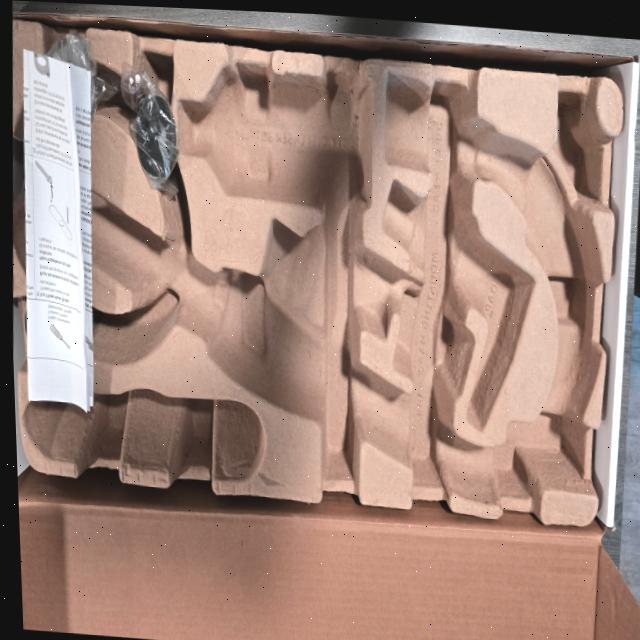1m: (11, 72, 598, 496)
2m: (381, 177, 534, 429)
3m: (178, 68, 369, 206)
4m: (23, 388, 265, 480)
5m: (28, 298, 83, 362)
6o: (23, 33, 115, 136)
7: (119, 53, 178, 205)
8: (21, 47, 91, 414)
